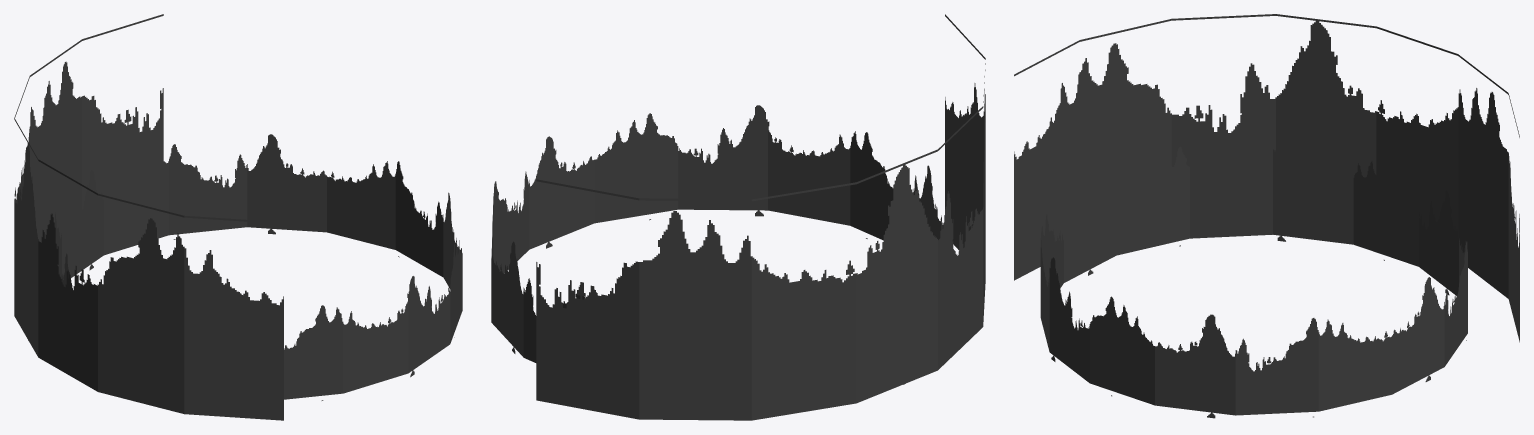
The model's file is fakemountains.glb.
3 views of the same model, side by side, from view 1: azimuth 30°, elevation 25°; view 2: azimuth 150°, elevation 25°; view 3: azimuth 270°, elevation 25° (orthographic). The views are drawn at different scales.
Parts seen in each view (by area): view 1: FakeMountains; view 2: FakeMountains; view 3: FakeMountains.
Boxes of the visible parts, x1,y1,x2,y2 form: FakeMountains: (14, 14, 462, 420); FakeMountains: (491, 14, 985, 420); FakeMountains: (1014, 14, 1519, 418).
Bounding box in the file's own units: 216 × 109 × 236.
1 material, 1 textured.
